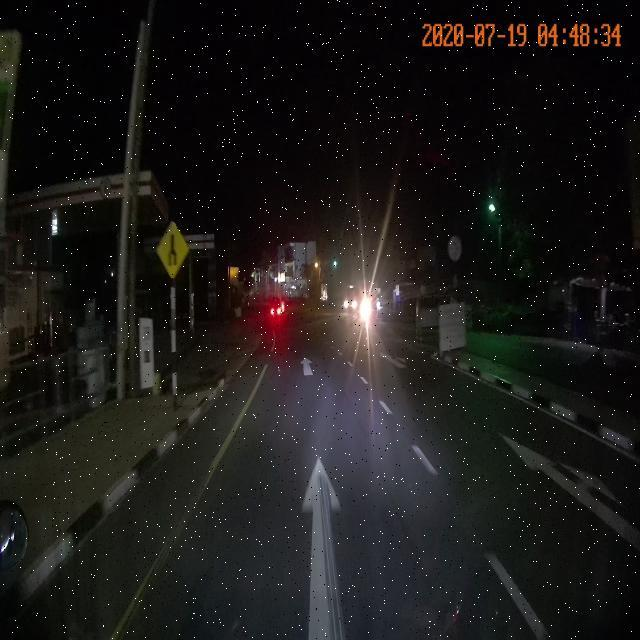forward: (104, 442, 560, 636), (251, 353, 369, 379)
